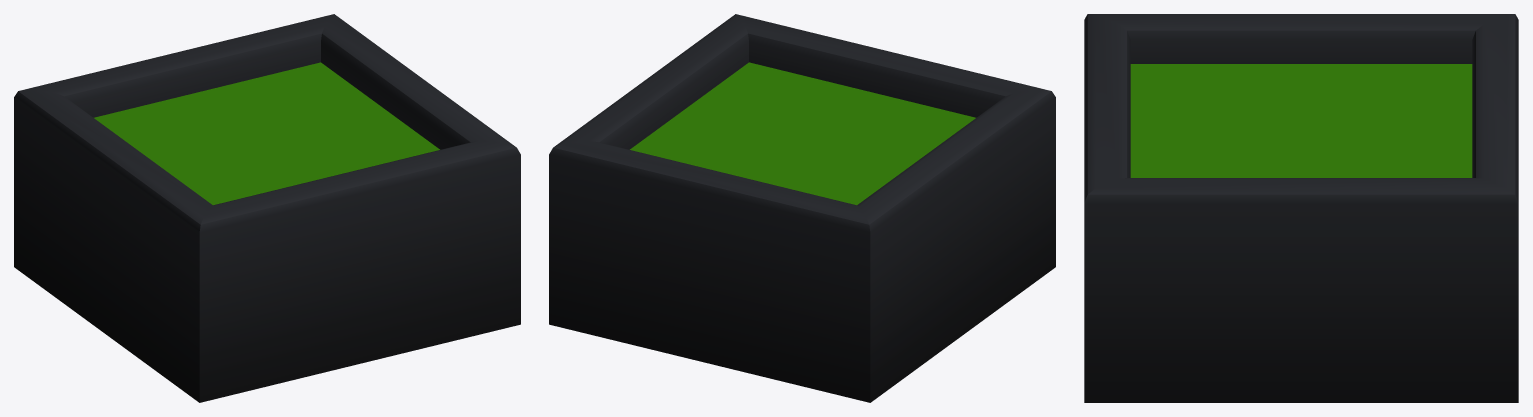
The model's file is Monitor_5.fbx.
3 renders of one model, left to right at view 1: azimuth 30°, elevation 25°; view 2: azimuth 150°, elevation 25°; view 3: azimuth 270°, elevation 25°, orthographic. The views are drawn at different scales.
Parts seen in each view (by area): view 1: Monitor_5; view 2: Monitor_5; view 3: Monitor_5.
Boxes of the visible parts, box(x1,y1,x2,y2) form: Monitor_5: box(14, 14, 520, 402); Monitor_5: box(549, 14, 1055, 402); Monitor_5: box(1084, 14, 1518, 402).
Size of the model in its own units: 1.88 by 1 by 1.88.
Materials: 1 (1 with a texture image).
